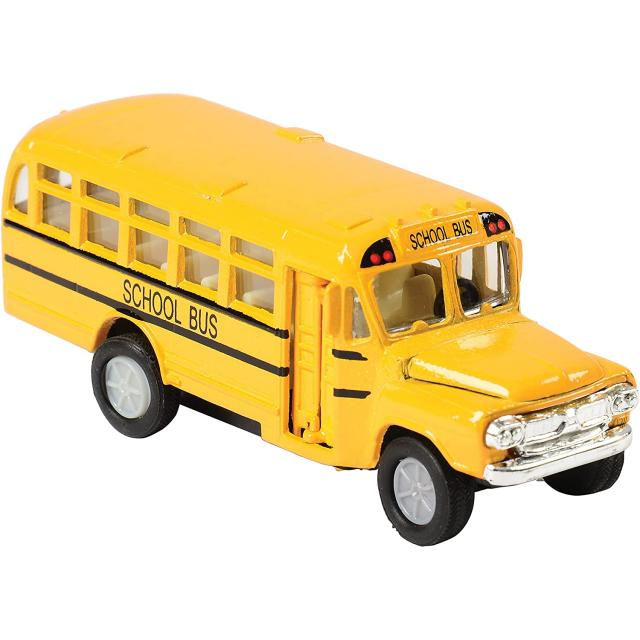bus: (0, 90, 631, 543)
